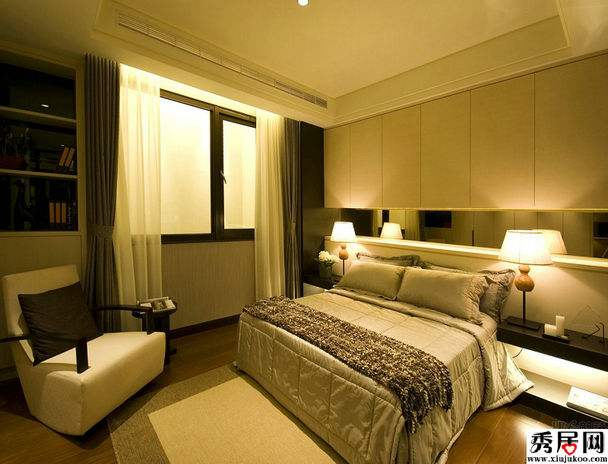床: (233, 280, 521, 451)
枕头: (332, 253, 506, 323)
灯: (492, 229, 559, 337), (319, 218, 360, 281)
